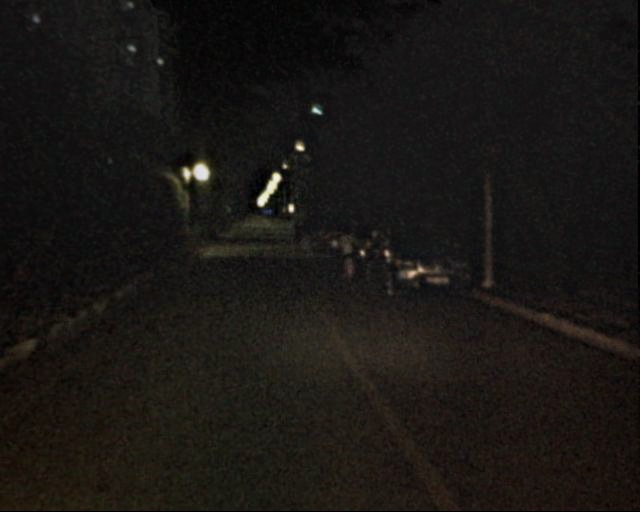person: (331, 220, 356, 280), (293, 214, 309, 253), (283, 221, 293, 246)
